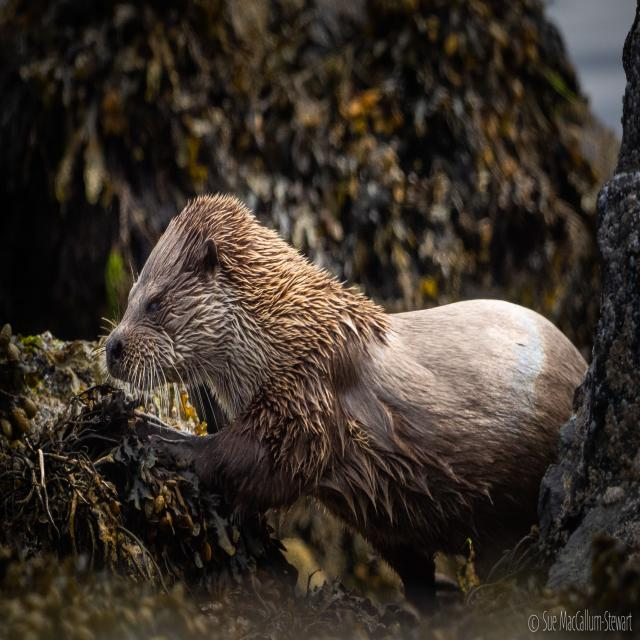otter: (107, 193, 586, 505)
